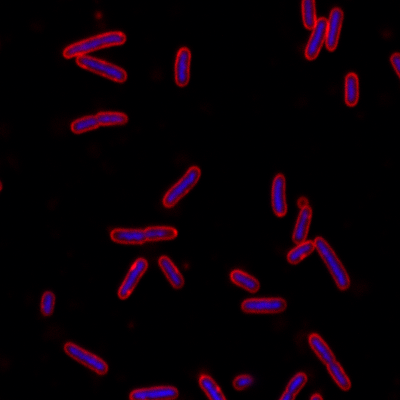Rifampicin: (305, 331, 353, 393), (60, 28, 127, 63), (314, 234, 352, 292), (160, 164, 202, 210), (63, 338, 110, 378), (112, 257, 151, 301), (66, 108, 129, 135), (75, 52, 128, 84), (107, 225, 180, 244), (154, 253, 187, 292), (303, 15, 330, 62), (289, 203, 317, 246), (238, 295, 289, 317), (323, 5, 345, 54), (172, 45, 194, 88), (268, 172, 289, 217), (228, 267, 261, 294), (284, 239, 317, 265), (344, 71, 360, 108), (37, 288, 57, 317)
